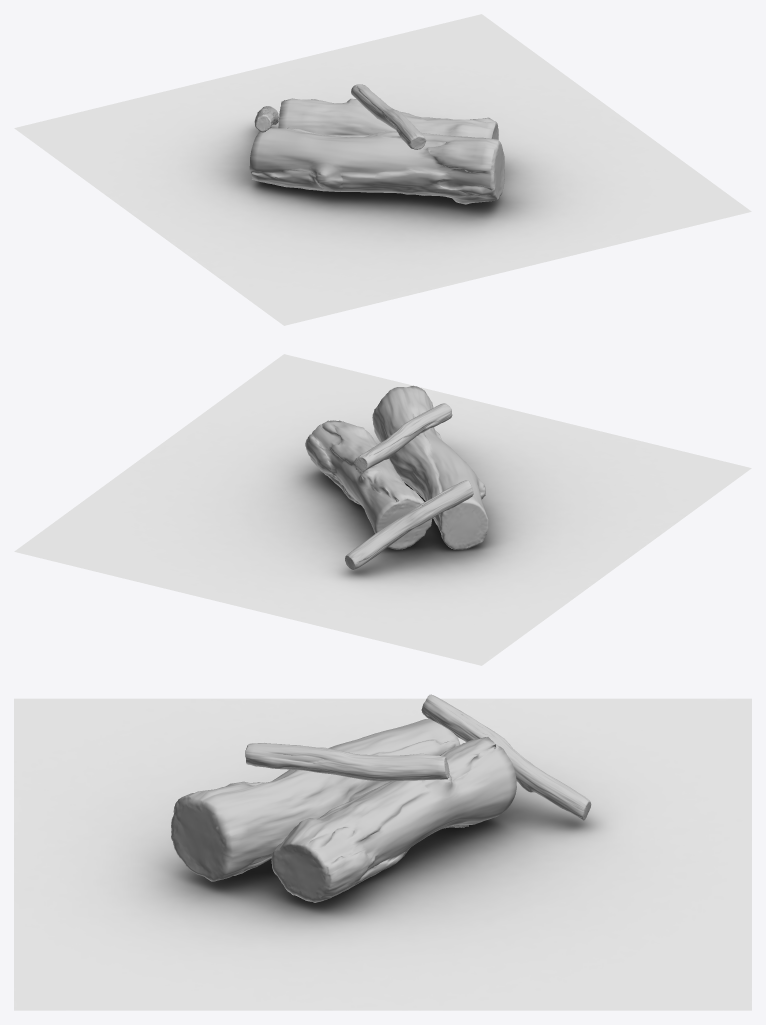
The picture shows the model from 3 angles, top to bottom: view 1: azimuth 30°, elevation 25°; view 2: azimuth 150°, elevation 25°; view 3: azimuth 270°, elevation 25°; orthographic projection. The views are drawn at different scales.
Visible parts, largest first — view 1: Plane.001, log_big_right, log_big_left, log_small_1; view 2: Plane.001, log_big_right, log_big_left, log_small_2, log_small_1; view 3: Plane.001, log_big_left, log_big_right, log_small_1, log_small_2.
Boxes of the visible parts, <box> form: Plane.001: <box>14,14,751,325</box>; log_big_right: <box>249,127,504,204</box>; log_big_left: <box>278,98,498,139</box>; log_small_1: <box>351,84,426,149</box>; Plane.001: <box>14,354,751,665</box>; log_big_right: <box>372,385,488,549</box>; log_big_left: <box>305,420,432,549</box>; log_small_2: <box>345,480,473,570</box>; log_small_1: <box>354,403,452,471</box>; Plane.001: <box>14,698,751,1010</box>; log_big_left: <box>271,737,516,902</box>; log_big_right: <box>171,718,460,881</box>; log_small_1: <box>245,743,449,781</box>; log_small_2: <box>421,694,591,820</box>.
Bounding box in the file's own units: 5.71 × 0.8743 × 5.71.
